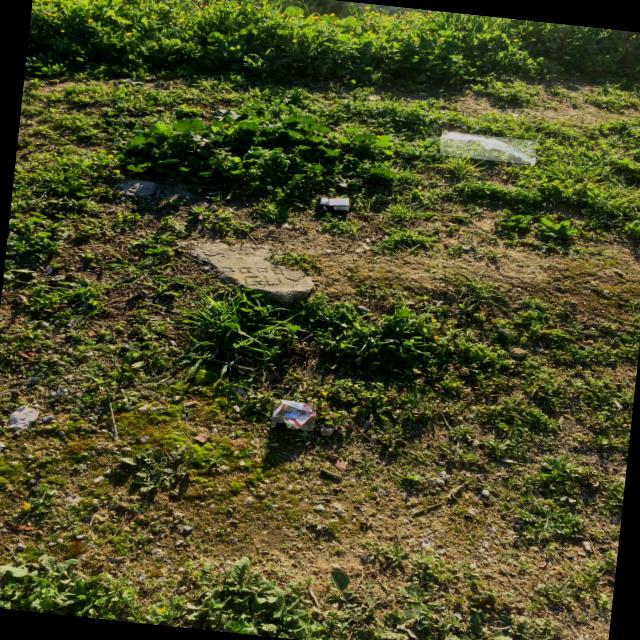Cigarette: (276, 423, 285, 431)
Other Carton: (272, 400, 315, 429), (315, 197, 349, 211)
Plastic film: (441, 133, 535, 164)
